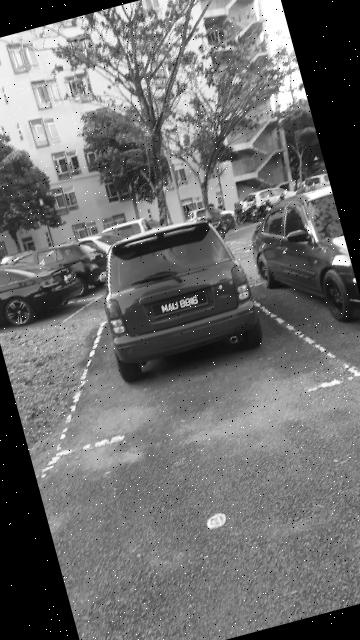License_Plate: (149, 287, 211, 322)
car: (85, 210, 268, 386)
